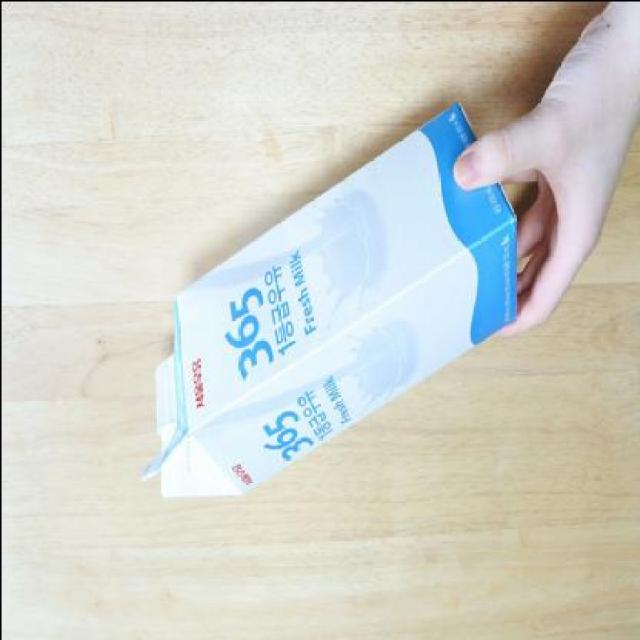non_white_jug: (127, 89, 527, 529)
